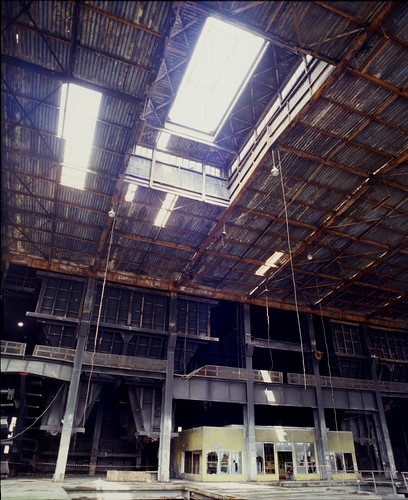building: (10, 1, 408, 470), (188, 414, 364, 482)
